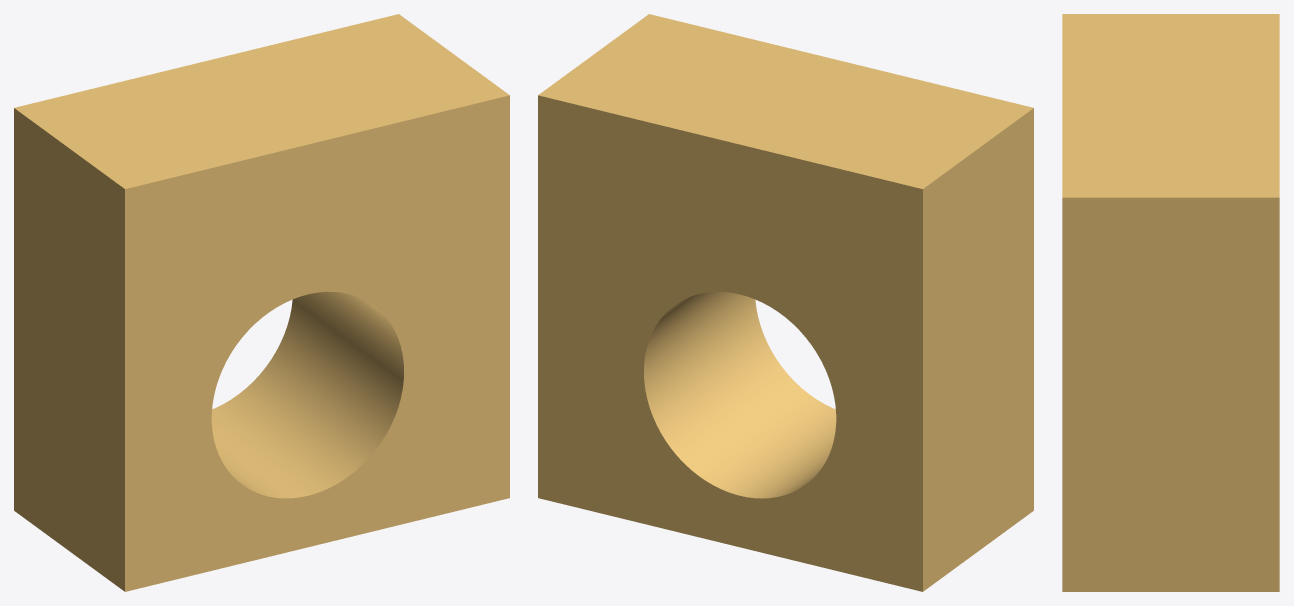
File: hole_block.obj
3 renders of one model, left to right at view 1: azimuth 30°, elevation 25°; view 2: azimuth 150°, elevation 25°; view 3: azimuth 270°, elevation 25°, orthographic. The views are drawn at different scales.
Parts seen in each view (by area): view 1: Body1; view 2: Body1; view 3: Body1.
Part boxes in pixels (x1=…): Body1: x1=14, y1=14, x2=509, y2=591; Body1: x1=538, y1=14, x2=1033, y2=591; Body1: x1=1062, y1=14, x2=1279, y2=591.
Size of the model in its own units: 40 by 40 by 20.
